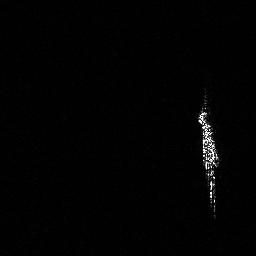ship: (193, 102, 223, 217)
